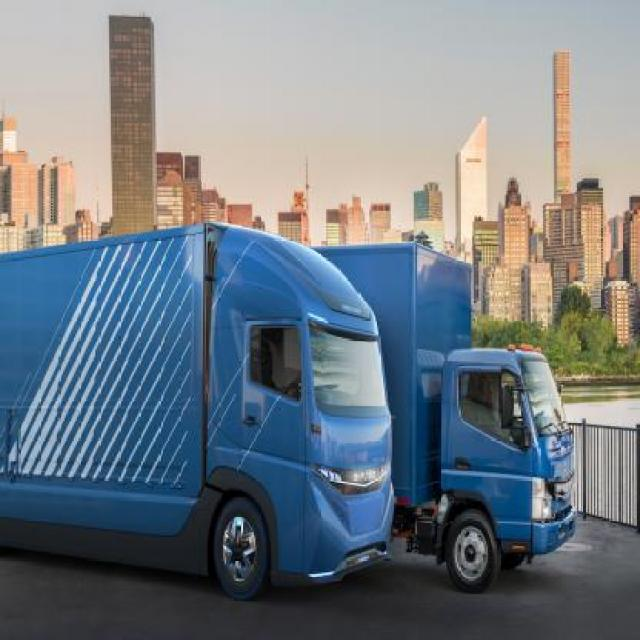truck: (1, 218, 396, 595), (311, 241, 577, 584)
